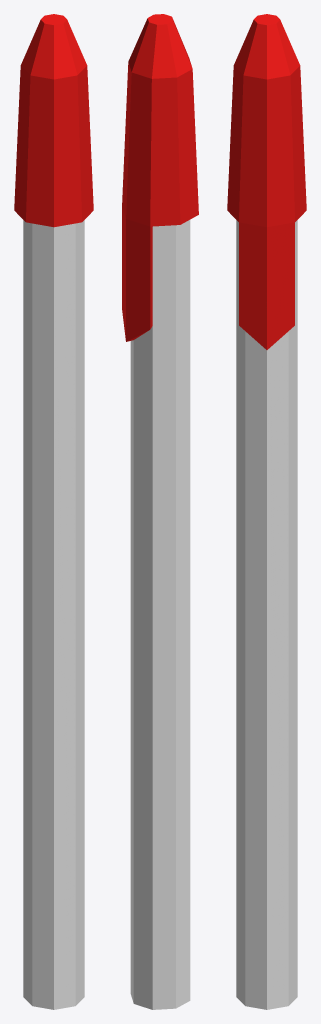
The model's file is Pen_Red.fbx.
3 renders of one model, left to right at view 1: azimuth 90°, elevation 25°; view 2: azimuth 210°, elevation 25°; view 3: azimuth 270°, elevation 25°, orthographic.
Parts seen in each view (by area): view 1: Pen_Red; view 2: Pen_Red; view 3: Pen_Red.
Part boxes in pixels (x1,y1,x2,y2): Pen_Red: (14, 14, 93, 1009); Pen_Red: (122, 14, 198, 1009); Pen_Red: (227, 14, 306, 1009).
Size of the model in its own units: 1.29 by 17.5 by 1.29.
